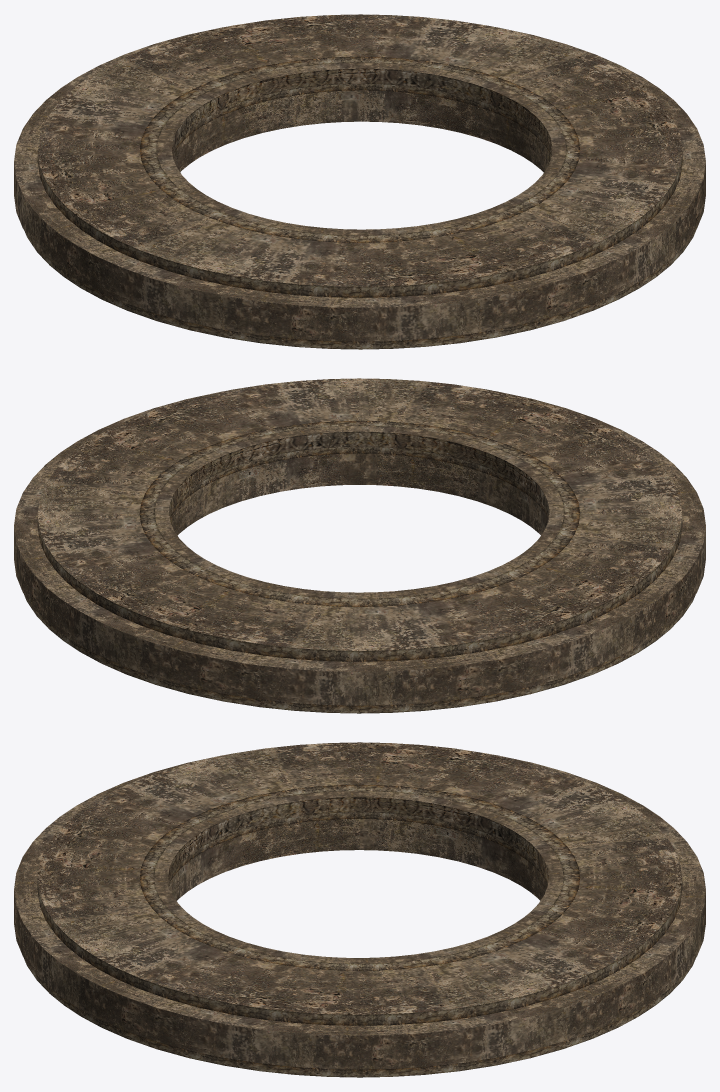
The model's file is materials_5_floor_donut_3.fbx.
The picture shows the model from 3 angles, top to bottom: view 1: azimuth 30°, elevation 25°; view 2: azimuth 150°, elevation 25°; view 3: azimuth 270°, elevation 25°; orthographic projection.
Parts seen in each view (by area): view 1: materials_5_floor_donut_3; view 2: materials_5_floor_donut_3; view 3: materials_5_floor_donut_3.
Part boxes in pixels (x1=…): materials_5_floor_donut_3: x1=14, y1=14, x2=705, y2=349; materials_5_floor_donut_3: x1=14, y1=378, x2=705, y2=713; materials_5_floor_donut_3: x1=14, y1=742, x2=705, y2=1077.
Bounding box in the file's own units: 690 × 61.75 × 690.
